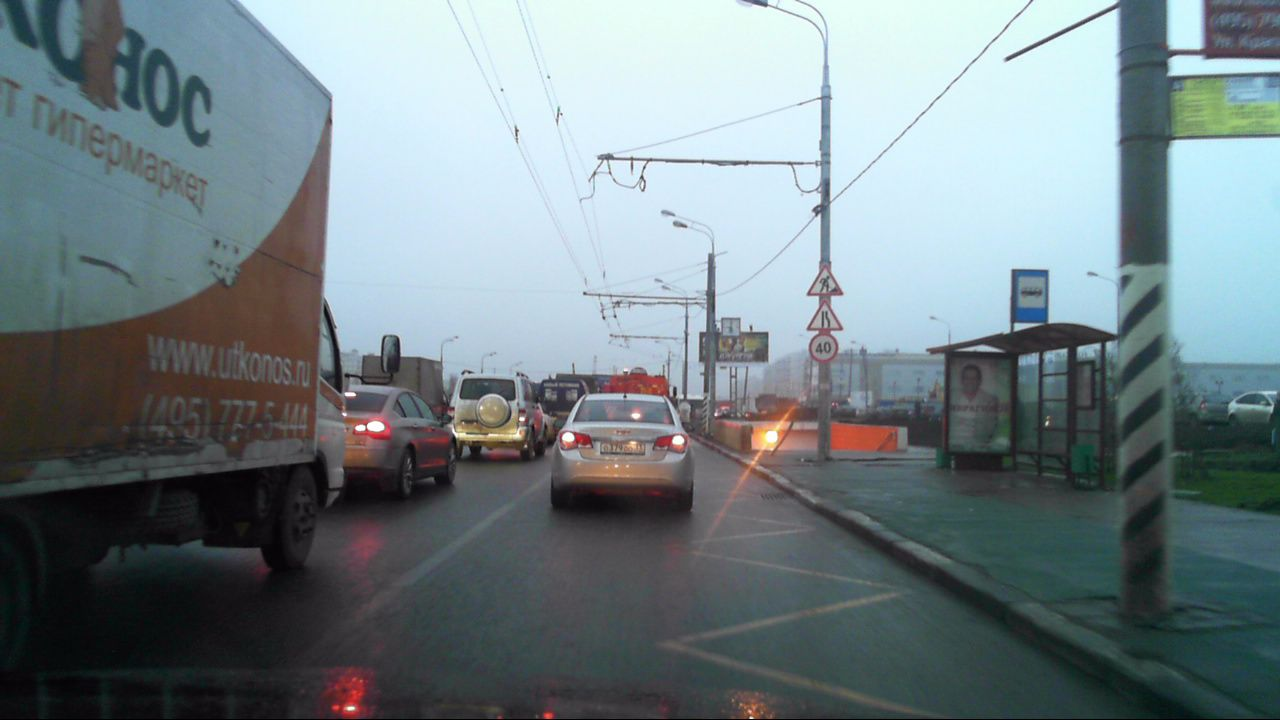speed_warning_40: (809, 332, 839, 362)
